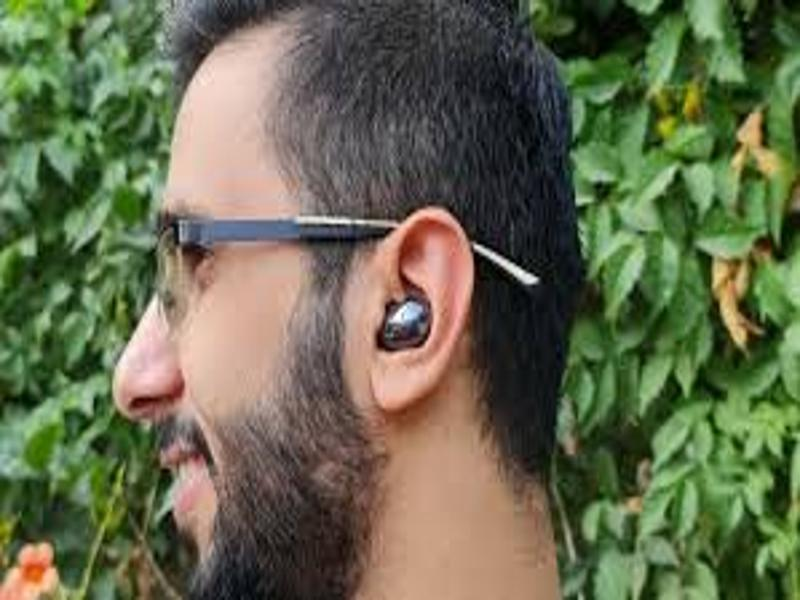headphone: (376, 294, 431, 353)
